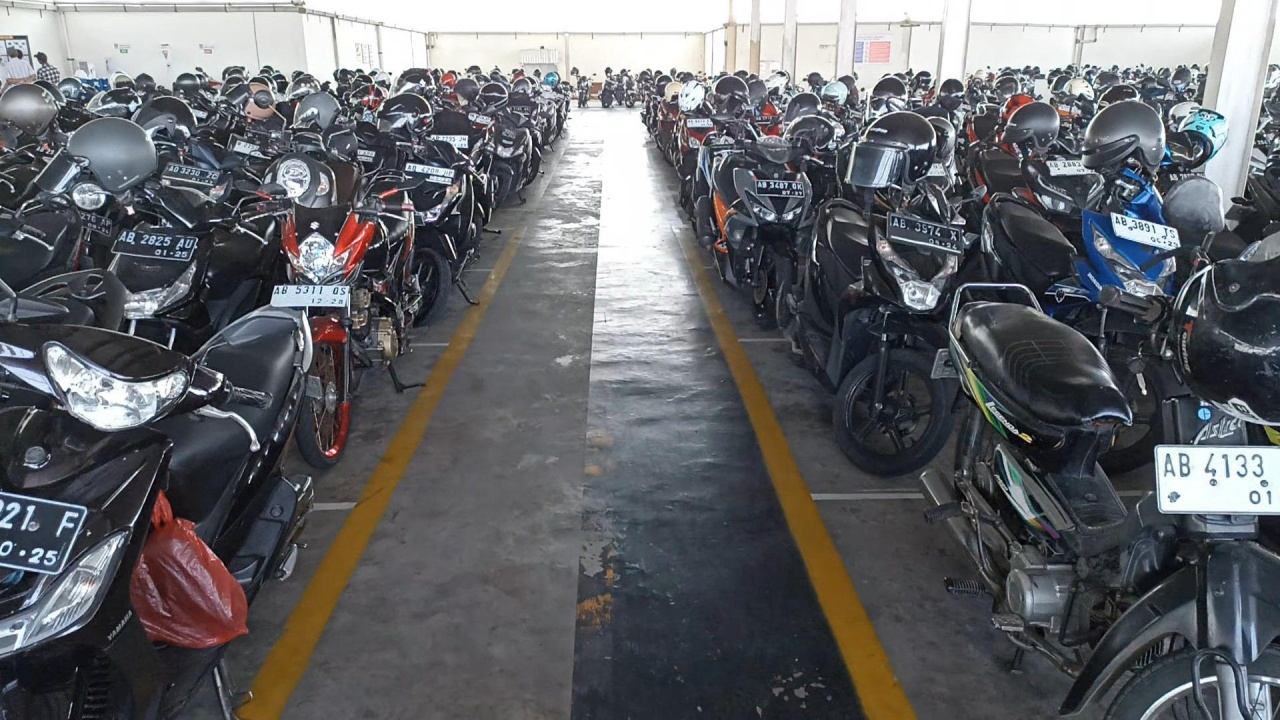plate: (888, 212, 964, 256), (112, 228, 198, 261), (1111, 212, 1181, 252), (270, 285, 349, 307), (756, 180, 805, 198)
